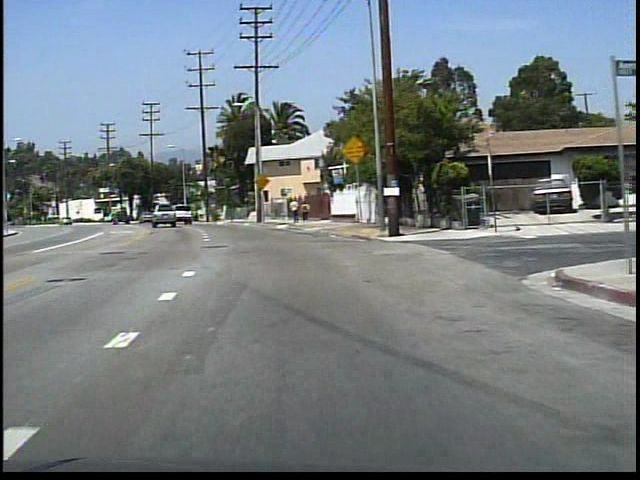person: (289, 196, 301, 224), (300, 198, 311, 223)
